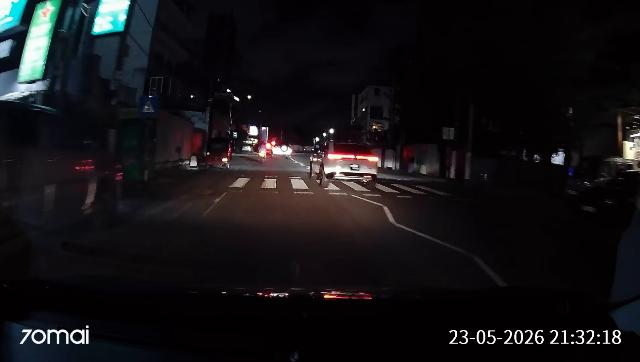illegal overtaking: (308, 134, 384, 197)
